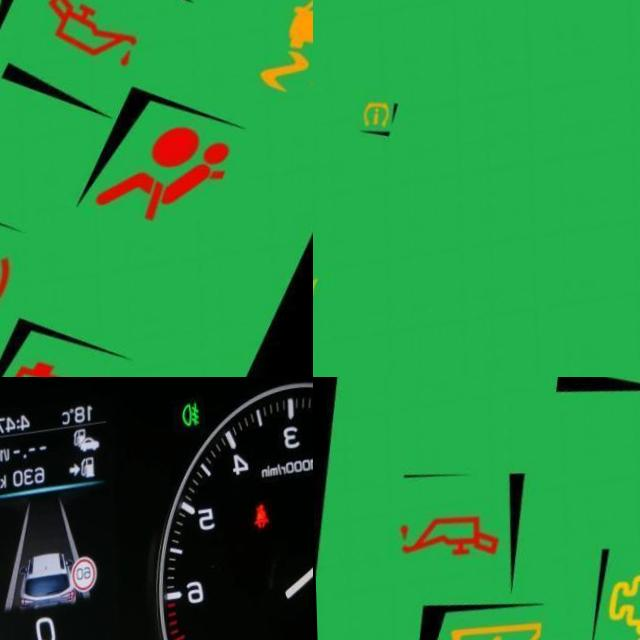Seat Belt: (253, 520, 269, 548)
